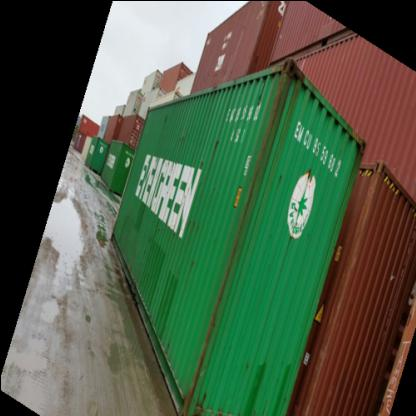Damage: (178, 193, 258, 397), (245, 52, 297, 204)
